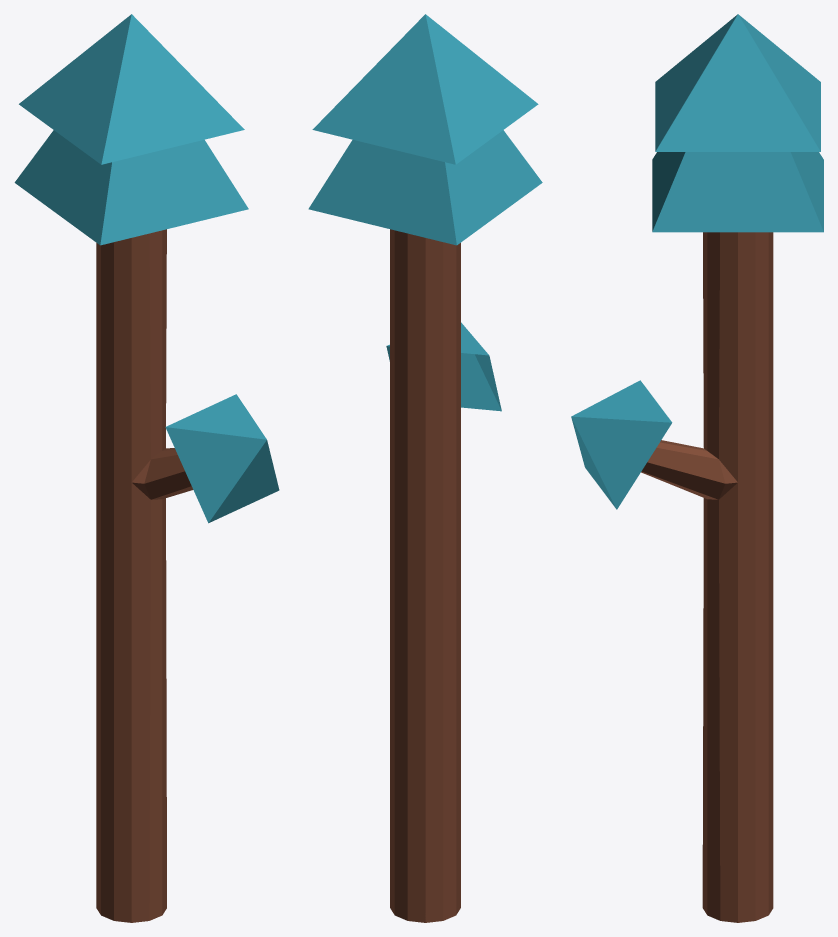
The model's file is Tree_25_summer_blue_vc.fbx.
3 renders of one model, left to right at view 1: azimuth 30°, elevation 25°; view 2: azimuth 150°, elevation 25°; view 3: azimuth 270°, elevation 25°, orthographic.
Parts seen in each view (by area): view 1: Tree_25_summer_blue_vc; view 2: Tree_25_summer_blue_vc; view 3: Tree_25_summer_blue_vc.
Part boxes in pixels (x1,y1,x2,y2): Tree_25_summer_blue_vc: (14, 14, 279, 922); Tree_25_summer_blue_vc: (308, 14, 542, 922); Tree_25_summer_blue_vc: (571, 14, 823, 922).
Bounding box in the file's own units: 58.32 × 308 × 79.03.
